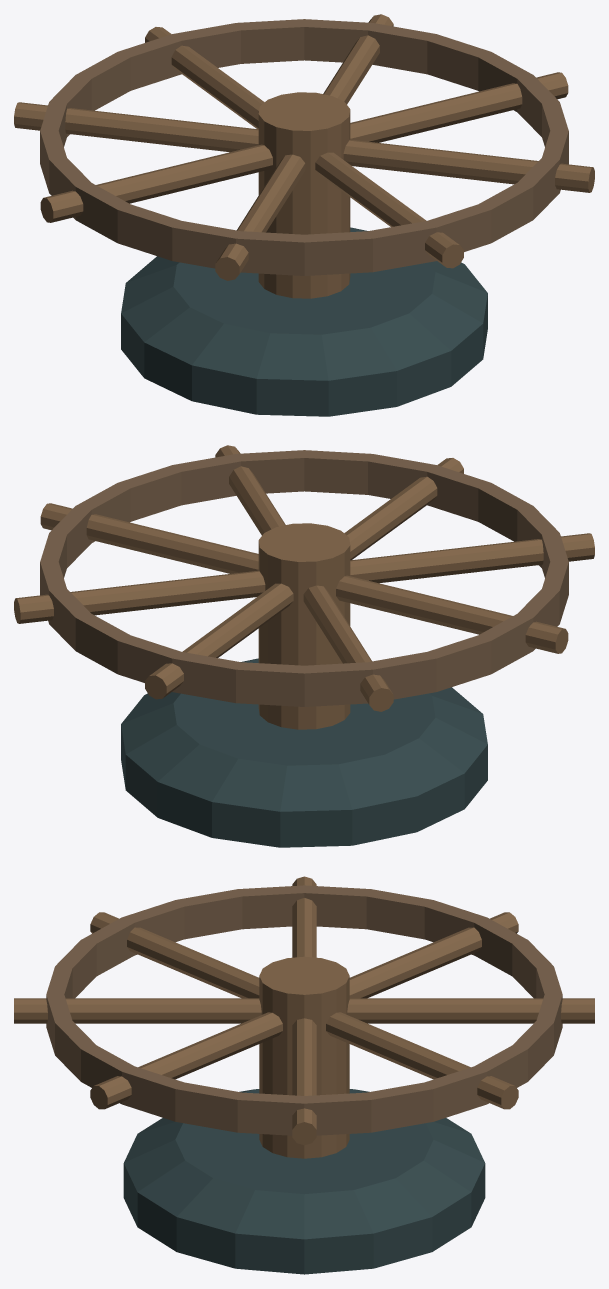
File: DockCapstan.glb
3 views of the same model, one above another, from view 1: azimuth 30°, elevation 25°; view 2: azimuth 150°, elevation 25°; view 3: azimuth 270°, elevation 25° (orthographic). The views are drawn at different scales.
Parts seen in each view (by area): view 1: Capstan base, Wheel rim, Capstan hub, Wheel spoke 07, Wheel spoke 03, Wheel spoke 04, Wheel spoke 00, Wheel spoke 06, Wheel spoke 05, Wheel spoke 02, Wheel spoke 01; view 2: Capstan base, Wheel rim, Capstan hub, Wheel spoke 01, Wheel spoke 05, Wheel spoke 04, Wheel spoke 00, Wheel spoke 02, Wheel spoke 03, Wheel spoke 06, Wheel spoke 07; view 3: Capstan base, Wheel rim, Capstan hub, Wheel spoke 02, Wheel spoke 06, Wheel spoke 01, Wheel spoke 07, Wheel spoke 03, Wheel spoke 05, Wheel spoke 00, Wheel spoke 04.
Part boxes in pixels (bbox=[...]): Capstan base: bbox=[121, 227, 487, 416]; Wheel rim: bbox=[40, 19, 568, 275]; Capstan hub: bbox=[258, 92, 350, 298]; Wheel spoke 07: bbox=[343, 139, 594, 192]; Wheel spoke 03: bbox=[14, 102, 258, 152]; Wheel spoke 04: bbox=[40, 144, 272, 222]; Wheel spoke 00: bbox=[350, 72, 568, 142]; Wheel spoke 06: bbox=[315, 152, 463, 268]; Wheel spoke 05: bbox=[215, 154, 305, 280]; Wheel spoke 02: bbox=[145, 27, 264, 129]; Wheel spoke 01: bbox=[323, 14, 393, 104]; Capstan base: bbox=[121, 658, 487, 847]; Wheel rim: bbox=[40, 450, 568, 706]; Capstan hub: bbox=[258, 523, 350, 729]; Wheel spoke 01: bbox=[14, 570, 265, 623]; Wheel spoke 05: bbox=[350, 533, 594, 583]; Wheel spoke 04: bbox=[336, 575, 568, 653]; Wheel spoke 00: bbox=[40, 503, 258, 573]; Wheel spoke 02: bbox=[145, 583, 293, 699]; Wheel spoke 03: bbox=[303, 585, 393, 711]; Wheel spoke 06: bbox=[344, 458, 463, 560]; Wheel spoke 07: bbox=[215, 445, 285, 535]; Capstan base: bbox=[123, 1089, 485, 1274]; Wheel rim: bbox=[46, 885, 562, 1135]; Capstan hub: bbox=[259, 956, 349, 1158]; Wheel spoke 02: bbox=[347, 998, 594, 1023]; Wheel spoke 06: bbox=[14, 998, 261, 1023]; Wheel spoke 01: bbox=[326, 1012, 518, 1109]; Wheel spoke 07: bbox=[90, 1012, 282, 1109]; Wheel spoke 03: bbox=[349, 912, 518, 998]; Wheel spoke 05: bbox=[90, 912, 259, 998]; Wheel spoke 00: bbox=[292, 1018, 316, 1145]; Wheel spoke 04: bbox=[292, 876, 316, 957].
Size of the model in its own units: 4.5 by 1.9 by 4.5.
